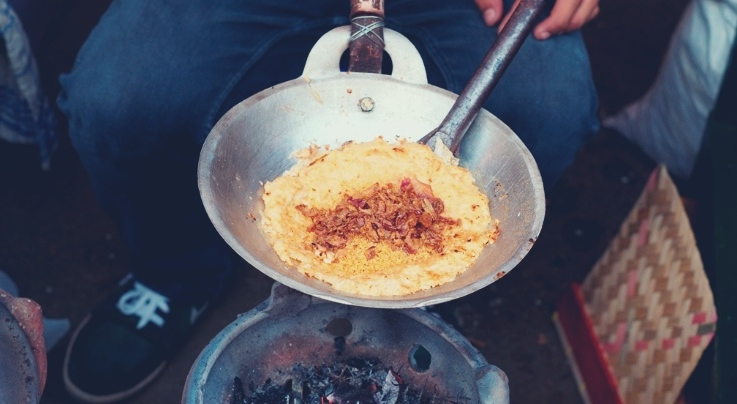kerak_telor: (261, 136, 499, 301)
